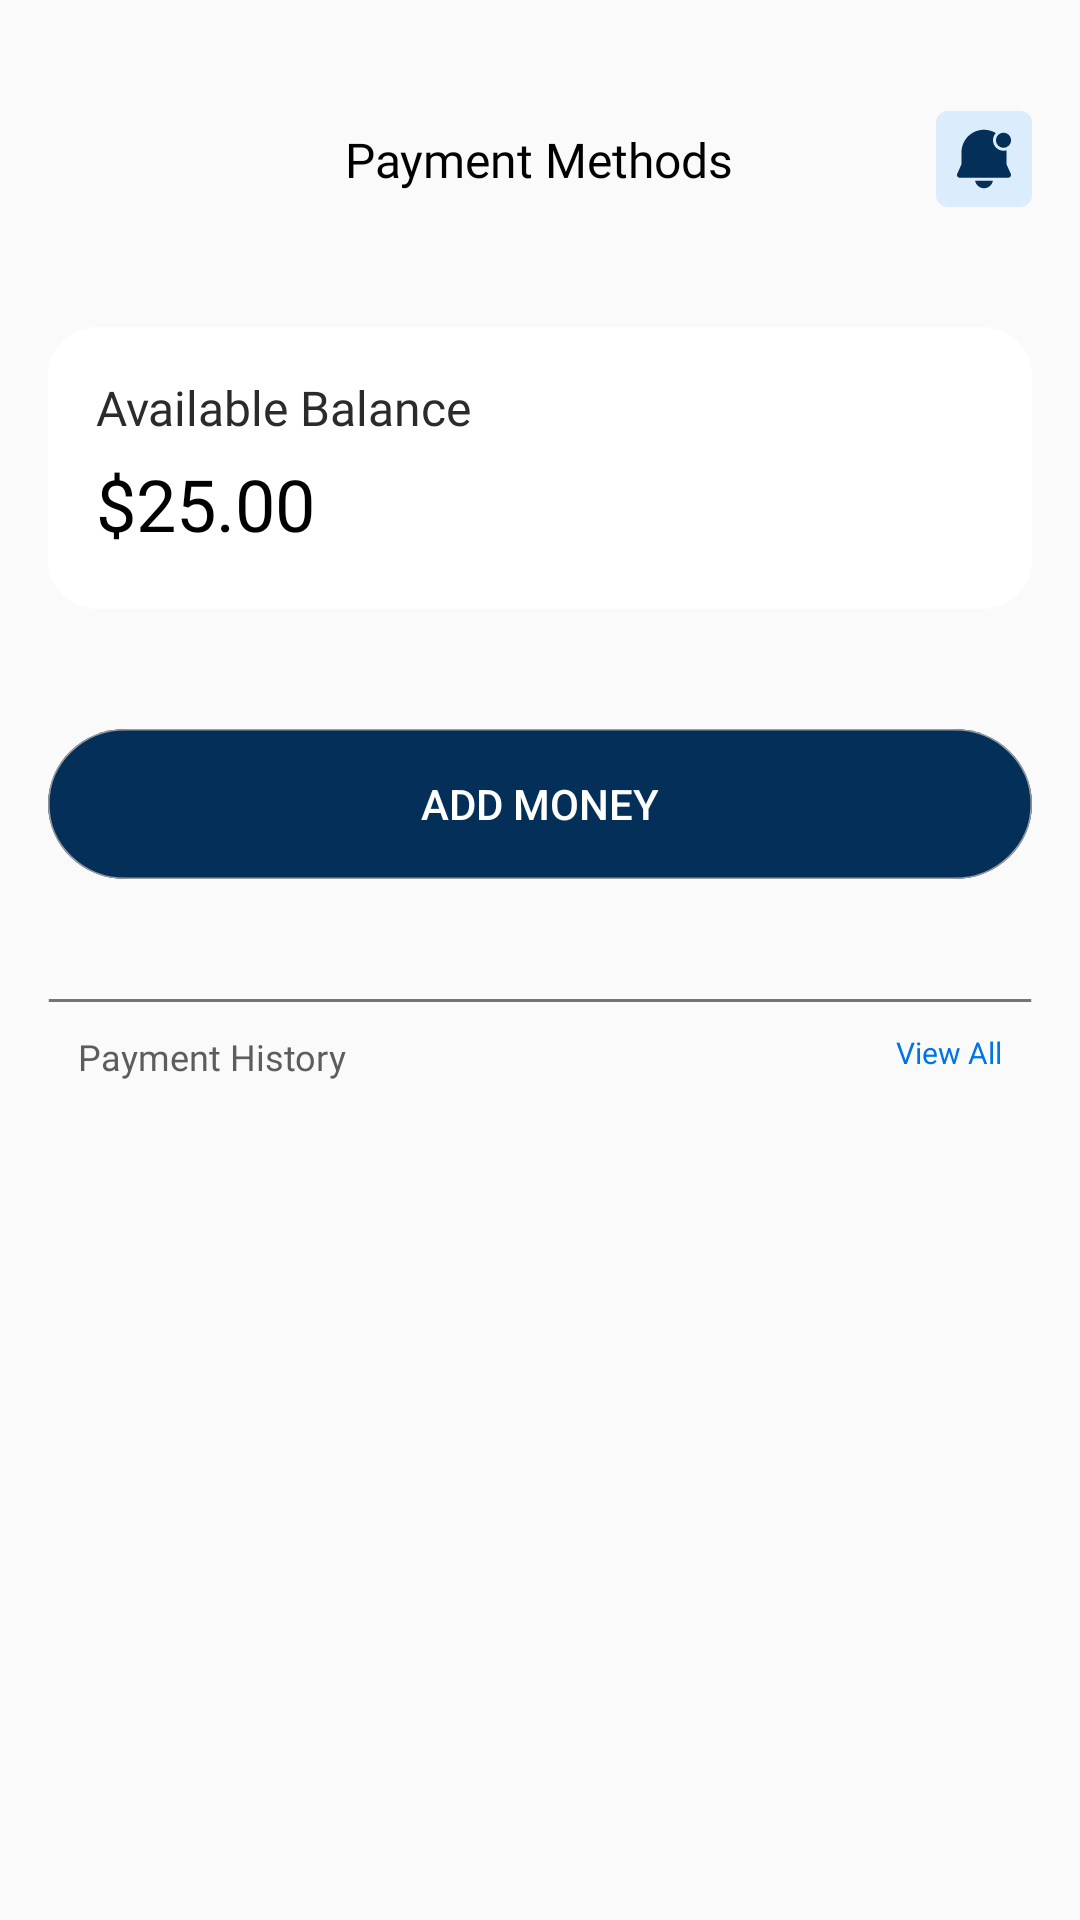

Locate icon controls on the screen. Image size 1080px x 1920px, boxes as (left=x1, top=y1, right=x2, bottom=y2).
notification: (left=936, top=111, right=1032, bottom=207)
